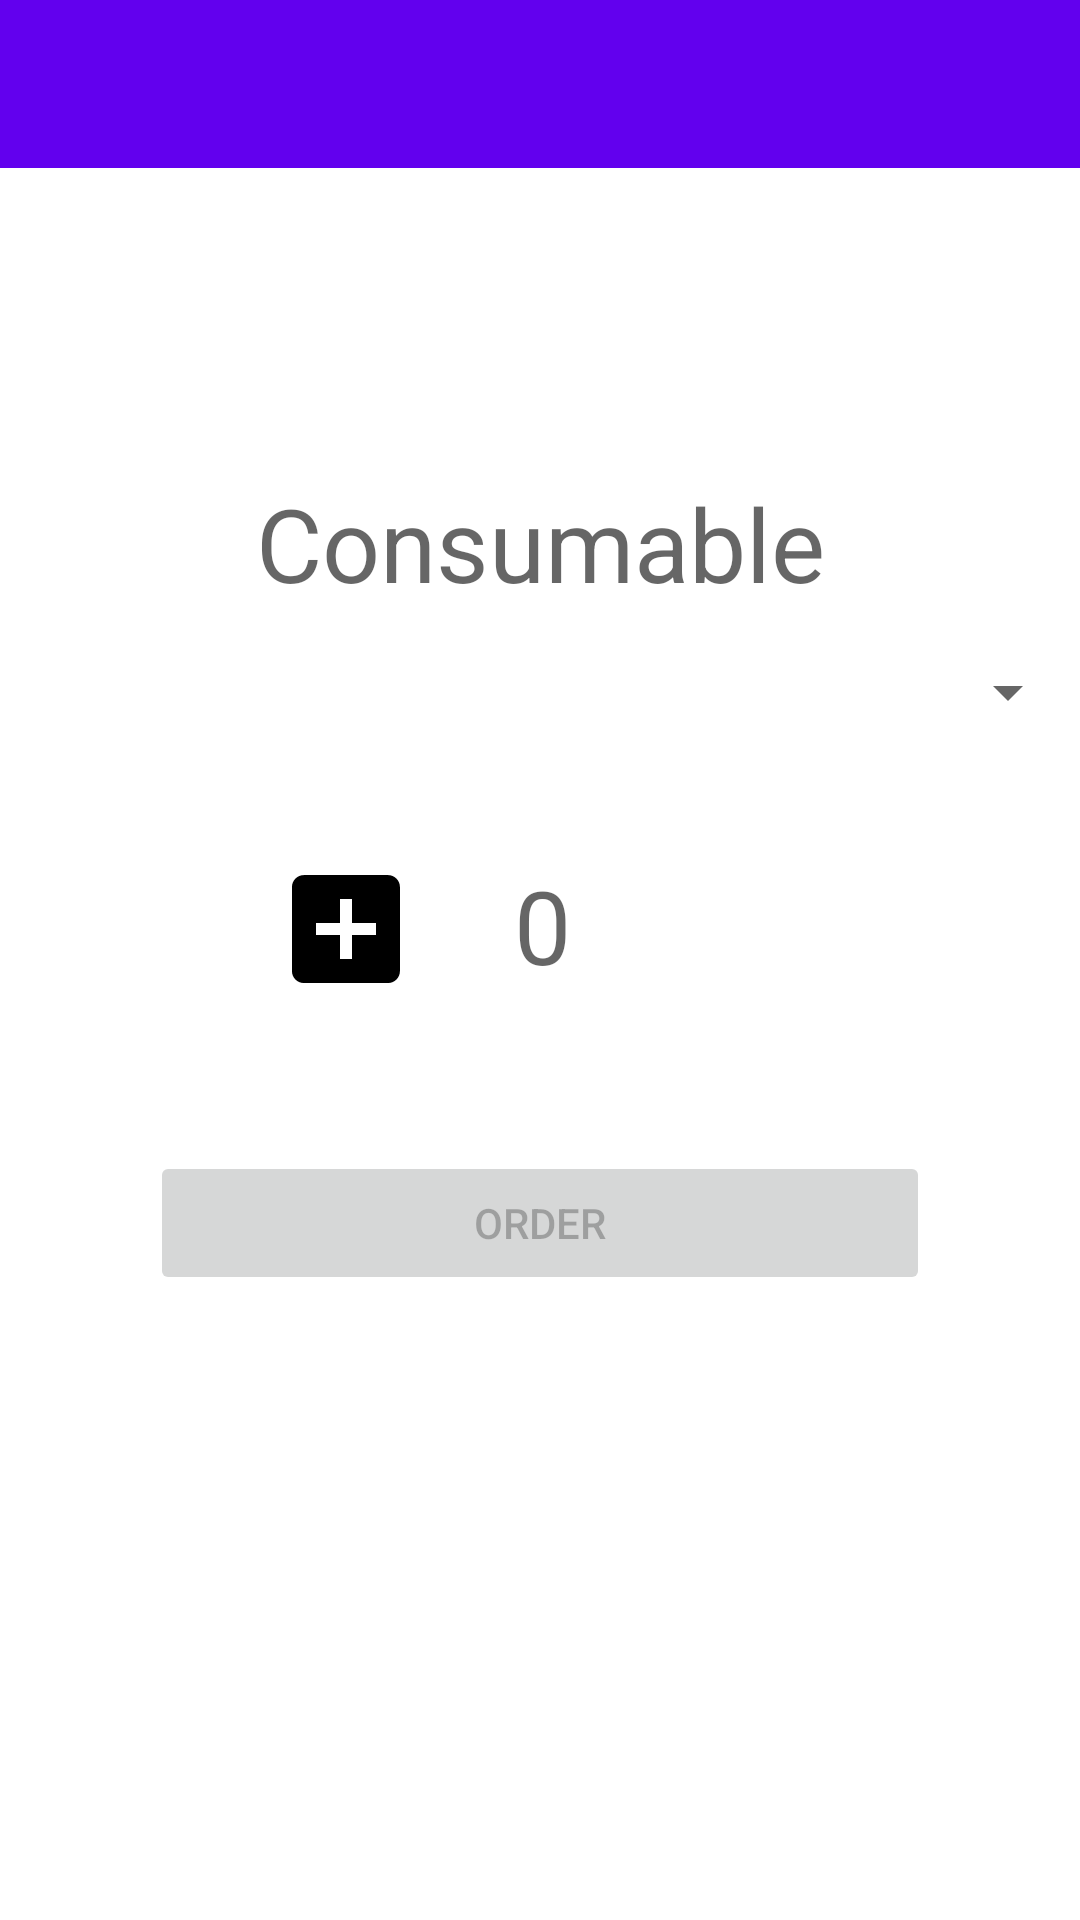

Where to tap for icons on this 1080*1920 app screen, as [x,y]:
add box: [346,929]
